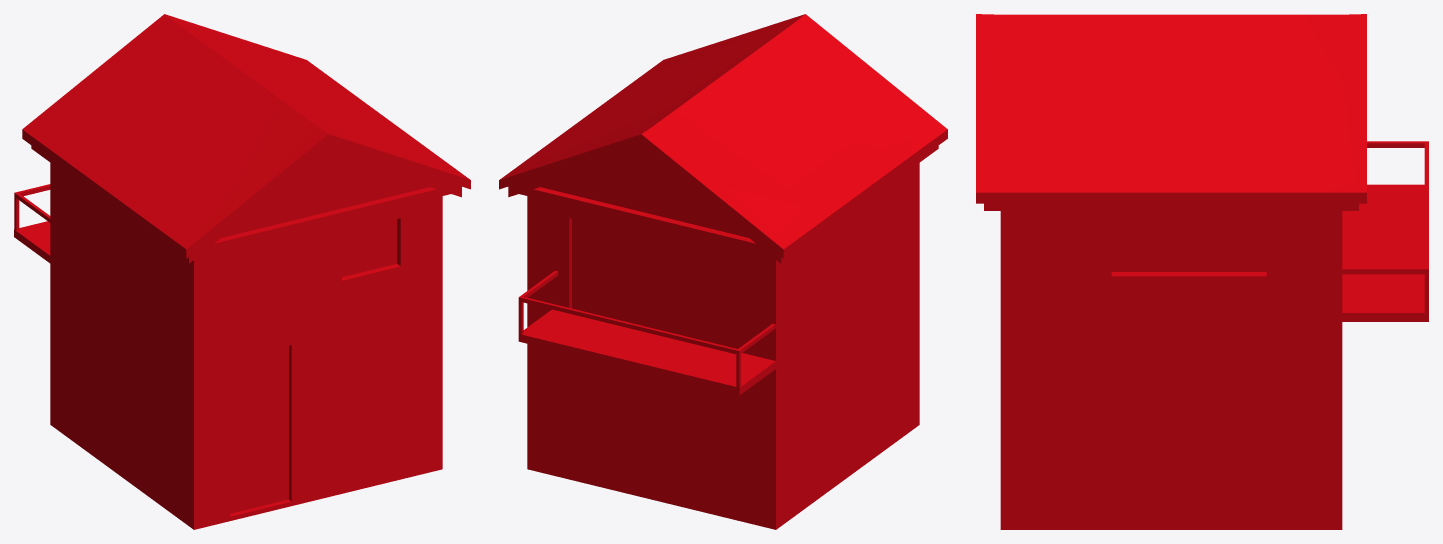
Rendered from house_1.fbx.
3 renders of one model, left to right at view 1: azimuth 30°, elevation 25°; view 2: azimuth 150°, elevation 25°; view 3: azimuth 270°, elevation 25°, orthographic. The views are drawn at different scales.
Parts seen in each view (by area): view 1: house; view 2: house; view 3: house.
Boxes of the visible parts, bbox=[...] form: house: bbox=[14, 14, 470, 529]; house: bbox=[499, 14, 947, 529]; house: bbox=[976, 14, 1428, 529].
Size of the model in its own units: 1088 by 1363 by 1261.
